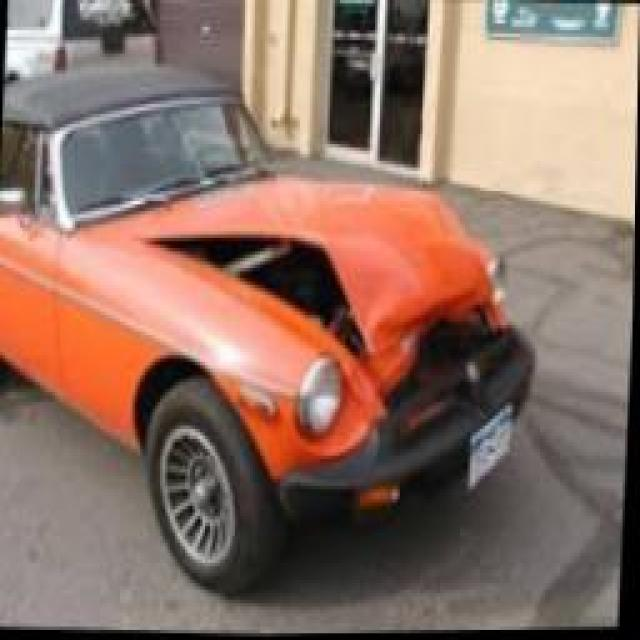Bonnet: (118, 174, 496, 406)
